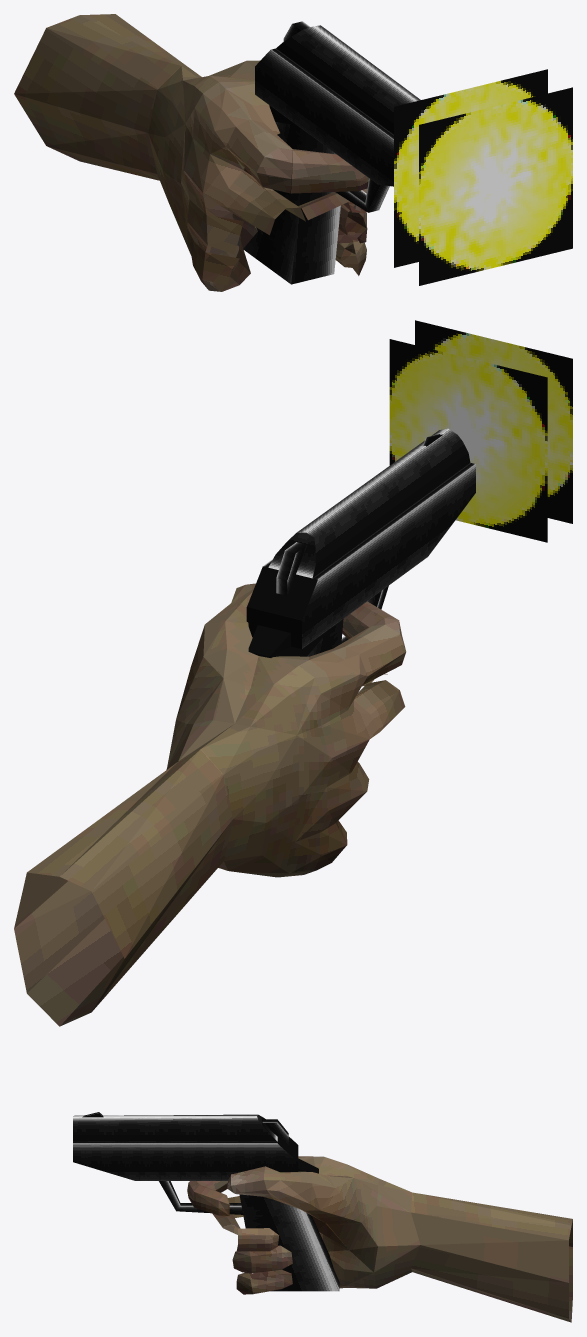
File: muzzle.glb
3 renders of one model, top to bottom at view 1: azimuth 30°, elevation 25°; view 2: azimuth 150°, elevation 25°; view 3: azimuth 270°, elevation 25°, orthographic. The views are drawn at different scales.
Visible parts, largest first — view 1: Room04_primary, Room26_primary, Room15_primary, Room23_primary, Room05_primary, Room2D_primary, Room2E_primary, Room20_primary, Room16_primary, Room13_primary, Room11_primary, Room1C_primary (+2 smaller); view 2: Room26_primary, Room05_primary, Room23_primary, Room2D_primary, Room2E_primary, Room04_primary, Room15_primary, Room20_primary, Room27_primary, Room13_primary, Room11_primary, Room2F_primary (+1 smaller); view 3: Room26_primary, Room2D_primary, Room16_primary, Room2E_primary, Room20_primary, Room1F_primary, Room23_primary, Room1B_primary, Room11_primary, Room1C_primary, Room1A_primary, Room0E_primary (+2 smaller).
Part boxes in pixels (x1,y1,x2,y2): Room04_primary: [419, 87, 572, 285]; Room26_primary: [14, 14, 269, 217]; Room15_primary: [203, 89, 349, 254]; Room23_primary: [163, 94, 257, 291]; Room05_primary: [394, 69, 547, 267]; Room2D_primary: [276, 25, 420, 134]; Room2E_primary: [255, 48, 393, 167]; Room20_primary: [255, 67, 393, 186]; Room16_primary: [291, 132, 340, 284]; Room13_primary: [237, 105, 306, 284]; Room11_primary: [291, 149, 368, 193]; Room1C_primary: [335, 229, 366, 275]; Room26_primary: [14, 621, 337, 1026]; Room05_primary: [389, 339, 547, 542]; Room23_primary: [229, 663, 369, 877]; Room2D_primary: [268, 428, 470, 578]; Room2E_primary: [247, 463, 475, 619]; Room04_primary: [415, 320, 572, 523]; Room15_primary: [308, 618, 406, 790]; Room20_primary: [246, 494, 474, 648]; Room27_primary: [248, 625, 290, 656]; Room13_primary: [269, 619, 343, 657]; Room11_primary: [342, 601, 397, 639]; Room2F_primary: [276, 542, 307, 595]; Room26_primary: [301, 1156, 572, 1322]; Room2D_primary: [73, 1114, 277, 1141]; Room16_primary: [239, 1169, 339, 1291]; Room2E_primary: [73, 1136, 298, 1162]; Room20_primary: [74, 1162, 298, 1180]; Room1F_primary: [227, 1166, 311, 1210]; Room23_primary: [312, 1216, 376, 1288]; Room1B_primary: [232, 1245, 292, 1273]; Room11_primary: [187, 1181, 229, 1216]; Room1C_primary: [236, 1270, 292, 1294]; Room1A_primary: [223, 1226, 278, 1251]; Room0E_primary: [159, 1181, 242, 1214].
Bounding box in the file's own units: 91 × 194 × 407.
12 materials, 12 textured.
